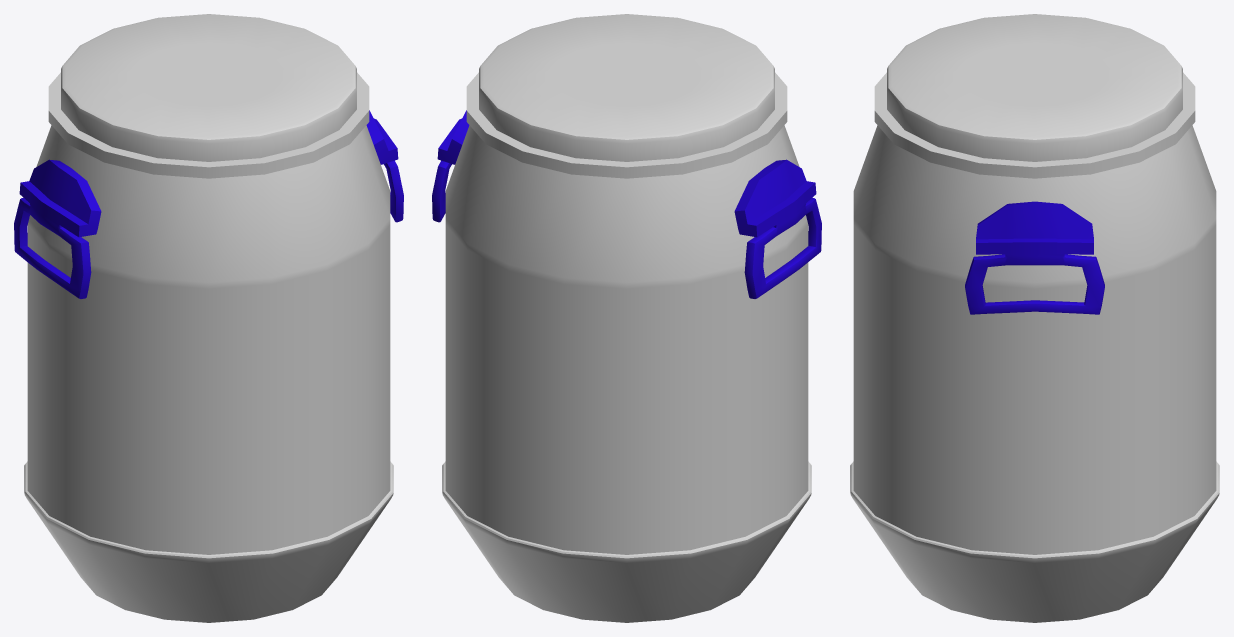
The model's file is ShieldContainer.fbx.
3 renders of one model, left to right at view 1: azimuth 30°, elevation 25°; view 2: azimuth 150°, elevation 25°; view 3: azimuth 270°, elevation 25°, orthographic.
Parts seen in each view (by area): view 1: WaterBarrel; view 2: WaterBarrel; view 3: WaterBarrel.
Part boxes in pixels (x1,y1,x2,y2): WaterBarrel: [14, 14, 403, 622]; WaterBarrel: [432, 14, 821, 622]; WaterBarrel: [850, 14, 1219, 622].
Size of the model in its own units: 79.44 by 108 by 73.7.
